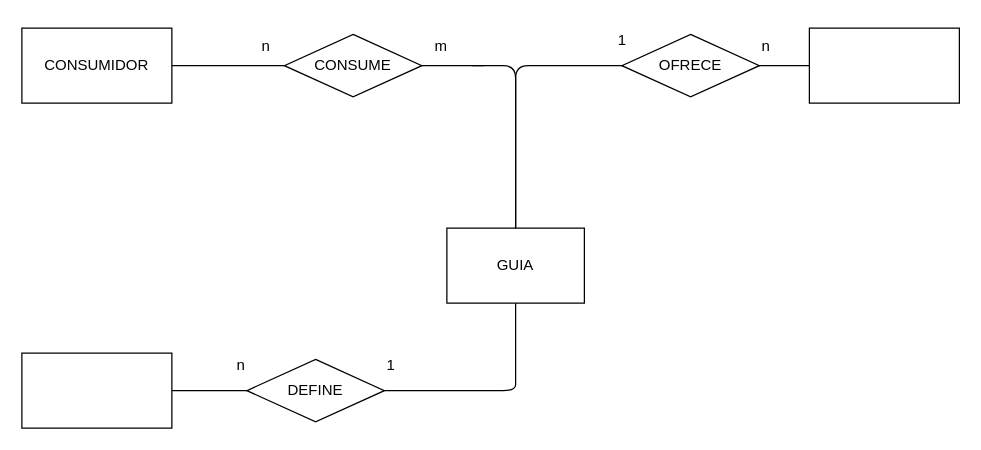
This 981x450 diagram has some shape labels left out. The centre of each missing label's shape, as x and y in pixels:
"OFERTANTE" goes at [883,65].
"TIPO" goes at [96,390].
